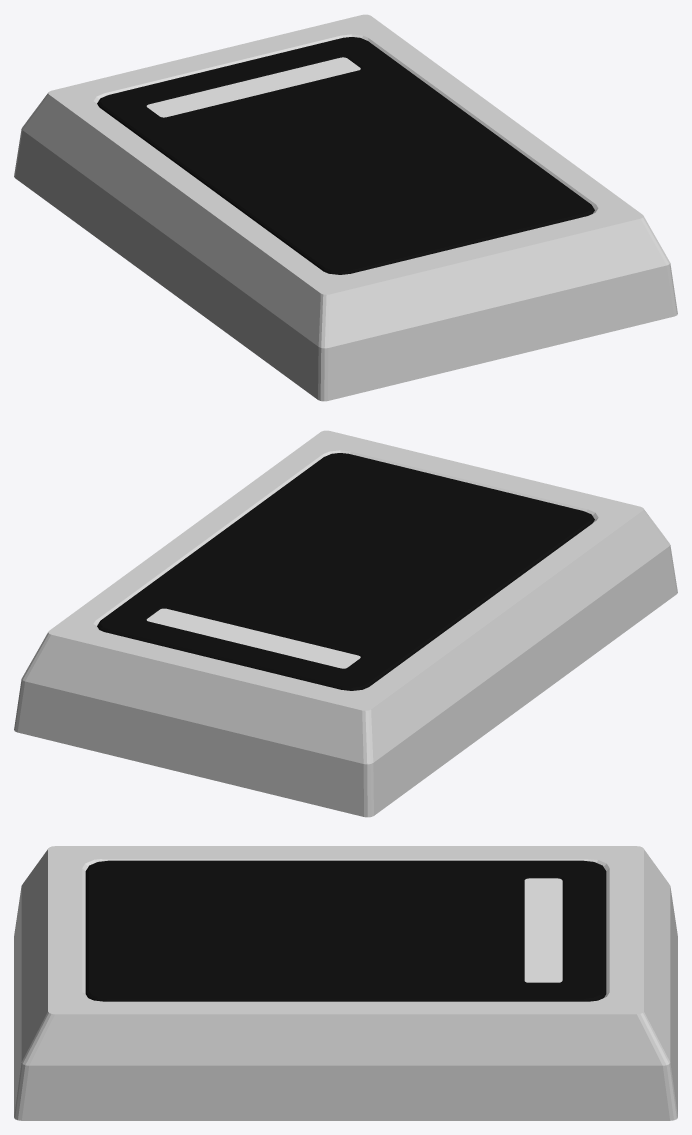
The model's file is keycard_reader.fbx.
3 views of the same model, one above another, from view 1: azimuth 30°, elevation 25°; view 2: azimuth 150°, elevation 25°; view 3: azimuth 270°, elevation 25° (orthographic). The views are drawn at different scales.
Visible parts, largest first — view 1: Plane.003; view 2: Plane.003; view 3: Plane.003.
Boxes of the visible parts, x1,y1,x2,y2 form: Plane.003: (14, 14, 677, 401); Plane.003: (14, 430, 677, 817); Plane.003: (14, 846, 677, 1120).
Bounding box in the file's own units: 13.12 × 3.18 × 19.65.
Materials: 3 (1 with a texture image).
